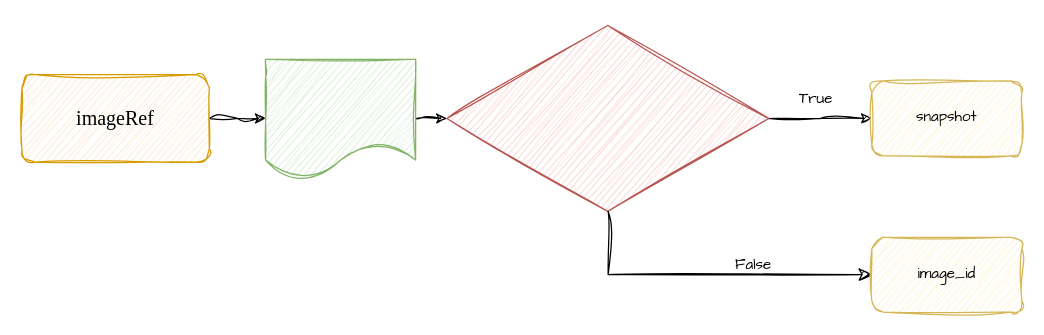
Image size: 1044x335. Some labels were removed from this diagram. The shapes that lost their labels are listed below. From the top down, each one's centre as x and y in pixels, then its label:
At point (340, 118): "image_uuid image_snapshot".
At point (607, 118): "api版本是否支持 SUPPORT_NOVA_IMAGE and 镜像中是否有snapshot".
